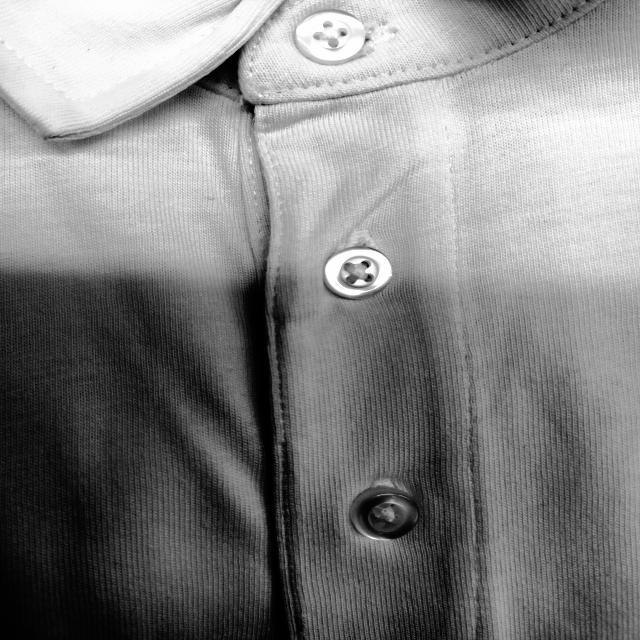Button_hike: (324, 219, 394, 307)
